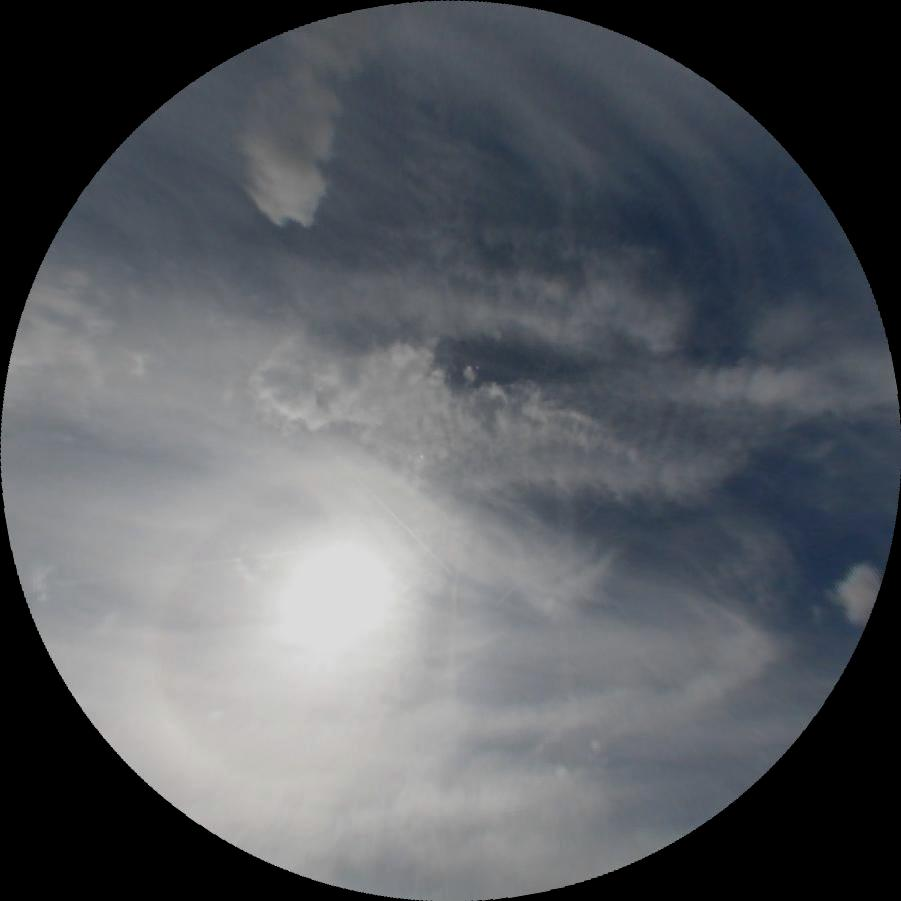contrail young: (312, 432, 452, 574), (497, 502, 599, 602)
parasite: (42, 544, 312, 588)
sun: (261, 521, 411, 677)
